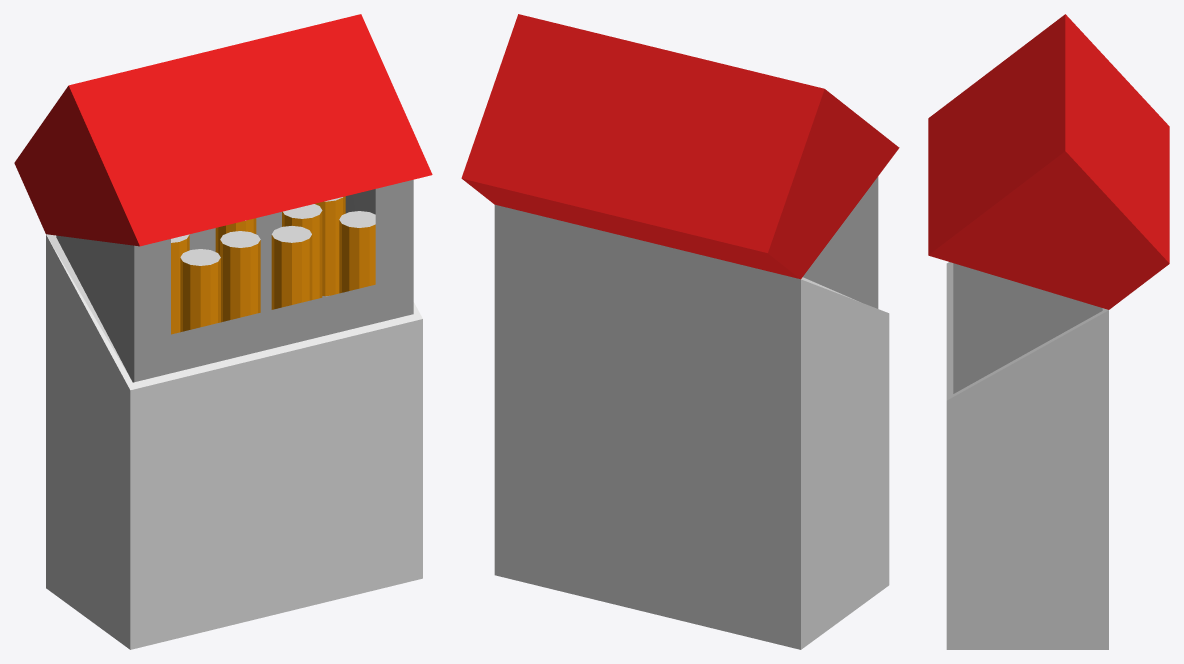
The model's file is cigarety.fbx.
3 renders of one model, left to right at view 1: azimuth 30°, elevation 25°; view 2: azimuth 150°, elevation 25°; view 3: azimuth 270°, elevation 25°, orthographic. The views are drawn at different scales.
Parts seen in each view (by area): view 1: out_1, out_2, in, filters, pieces; view 2: out_1, out_2, in; view 3: out_2, out_1, in.
Boxes of the visible parts, x1,y1,x2,y2 form: out_1: (46, 234, 422, 649); out_2: (14, 14, 432, 246); in: (56, 179, 413, 382); filters: (171, 196, 375, 334); pieces: (171, 197, 375, 297); out_1: (494, 204, 889, 649); out_2: (461, 14, 899, 279); in: (803, 176, 878, 308); out_2: (928, 14, 1169, 309); out_1: (946, 262, 1108, 649); in: (953, 263, 1102, 393).
Bounding box in the file's own units: 100 × 170 × 74.44.
